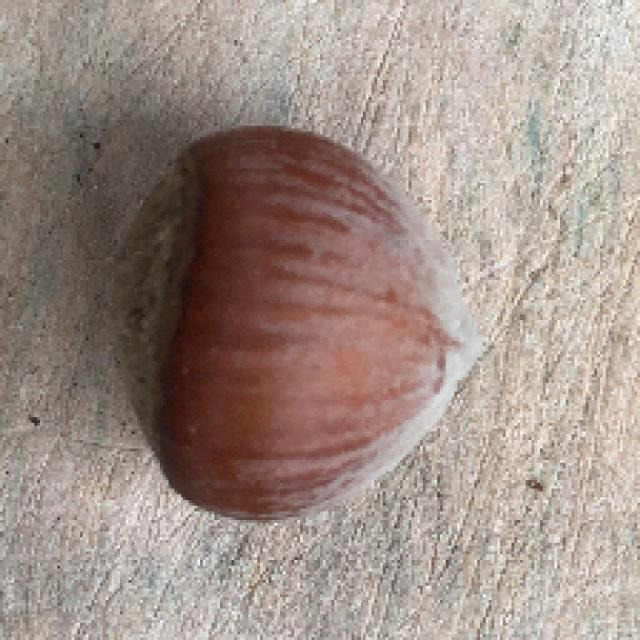qualityHazelnut: (102, 123, 485, 526)
